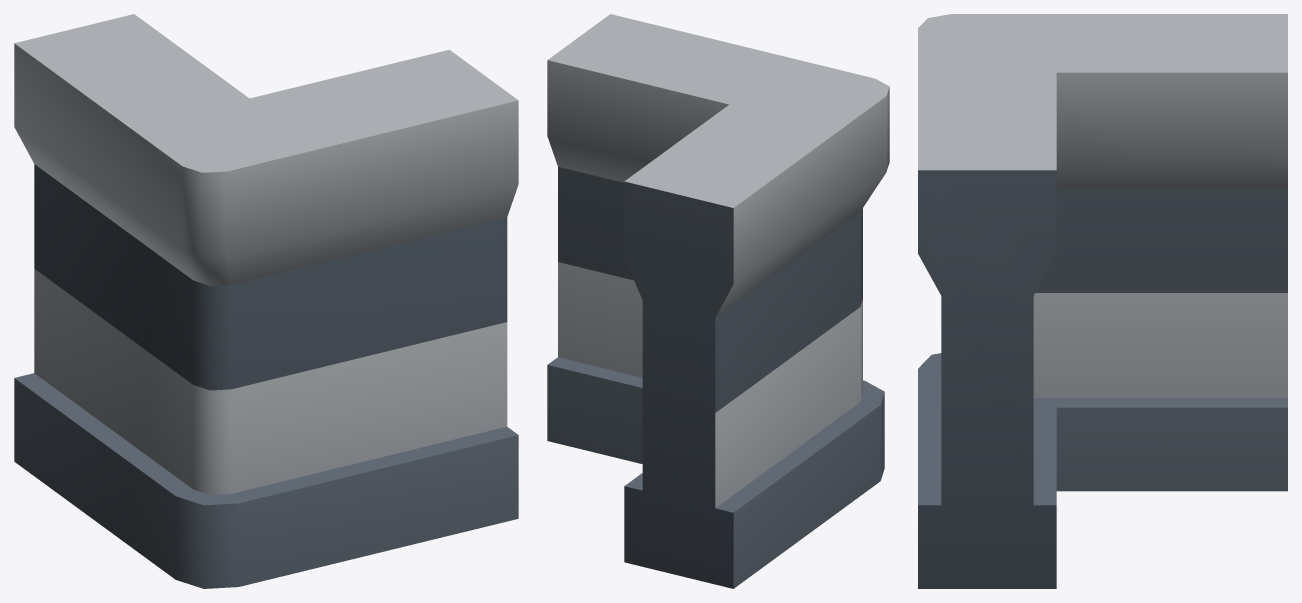
Rendered from wall-corner-banner.glb.
3 renders of one model, left to right at view 1: azimuth 30°, elevation 25°; view 2: azimuth 150°, elevation 25°; view 3: azimuth 270°, elevation 25°, orthographic. The views are drawn at different scales.
Parts seen in each view (by area): view 1: wall-corner-banner; view 2: wall-corner-banner; view 3: wall-corner-banner.
Boxes of the visible parts, x1,y1,x2,y2 form: wall-corner-banner: (14, 14, 518, 588); wall-corner-banner: (547, 14, 889, 588); wall-corner-banner: (918, 14, 1287, 588).
Size of the model in its own units: 0.8 by 1 by 0.8.
